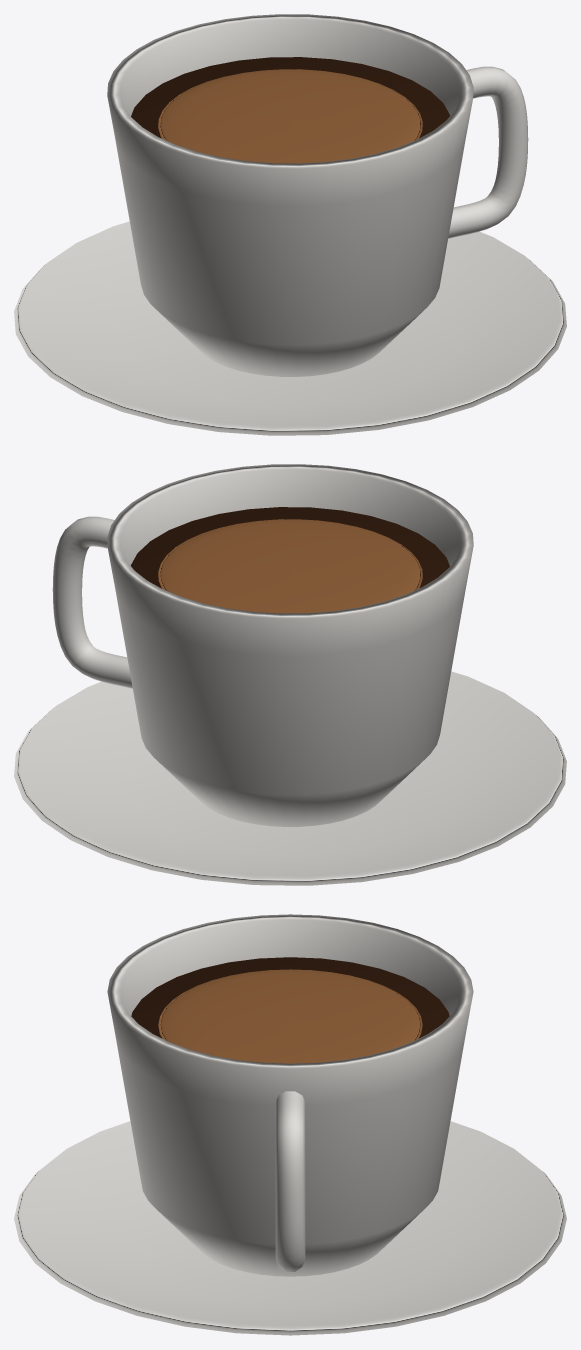
Rendered from alba-americano.glb.
The picture shows the model from 3 angles, top to bottom: view 1: azimuth 30°, elevation 25°; view 2: azimuth 150°, elevation 25°; view 3: azimuth 270°, elevation 25°; orthographic projection.
Size of the model in its own units: 0.148 by 0.078 by 0.148.
